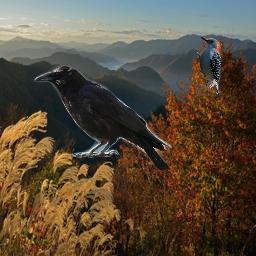Crow: (34, 65, 172, 171)
Woodpecker: (195, 35, 221, 100)
